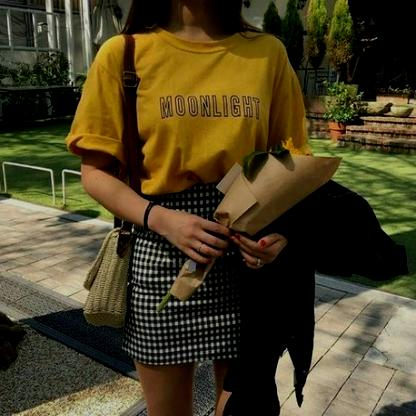dress: (73, 33, 321, 206)
jacket: (115, 184, 271, 364)
